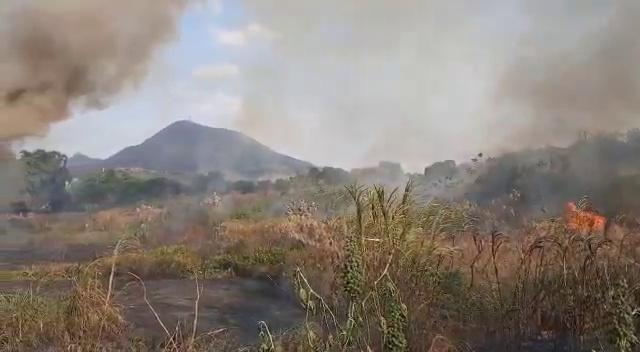smoke: (6, 0, 125, 85), (546, 10, 634, 115)
